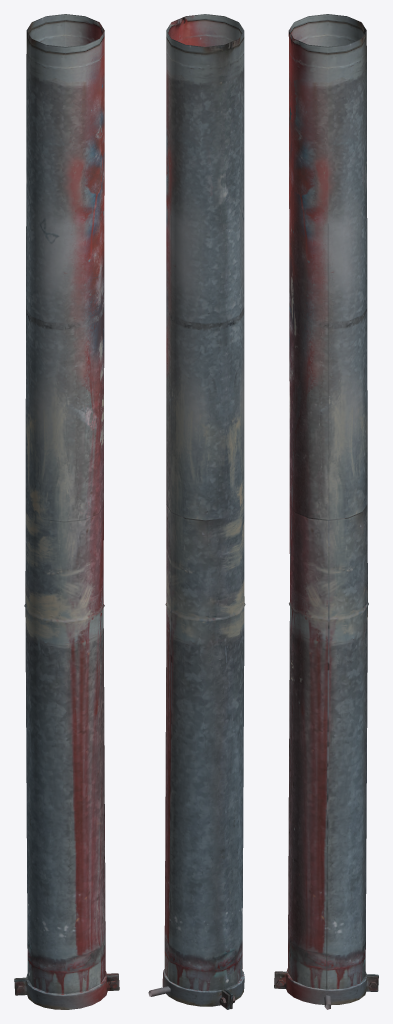
The model's file is sm_Pipe_01_05.fbx.
3 renders of one model, left to right at view 1: azimuth 90°, elevation 25°; view 2: azimuth 210°, elevation 25°; view 3: azimuth 270°, elevation 25°, orthographic.
Visible parts, largest first — view 1: sm_Pipe_01_05_LOD0; view 2: sm_Pipe_01_05_LOD0; view 3: sm_Pipe_01_05_LOD0.
Part boxes in pixels (x1,y1,x2,y2): sm_Pipe_01_05_LOD0: (14, 14, 119, 1009); sm_Pipe_01_05_LOD0: (148, 14, 245, 1009); sm_Pipe_01_05_LOD0: (274, 14, 378, 1009).
Bounding box in the file's own units: 16.73 × 16.58 × 169.
